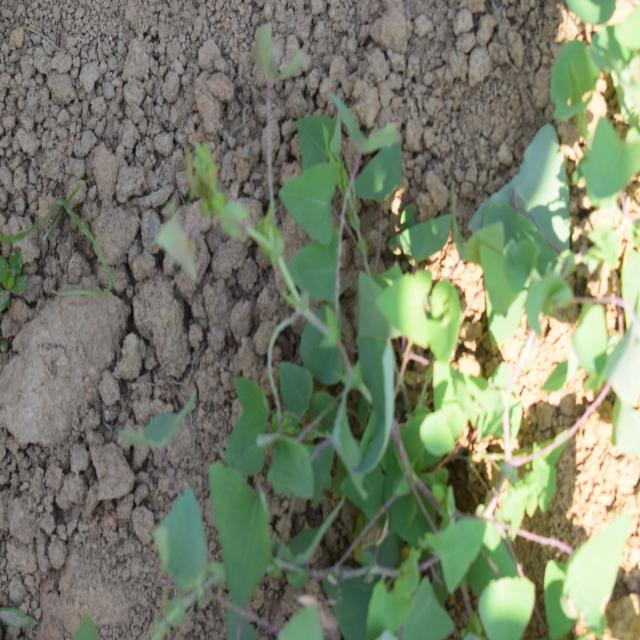Asiatic_Smartweed: (194, 68, 430, 440), (164, 360, 344, 615)
